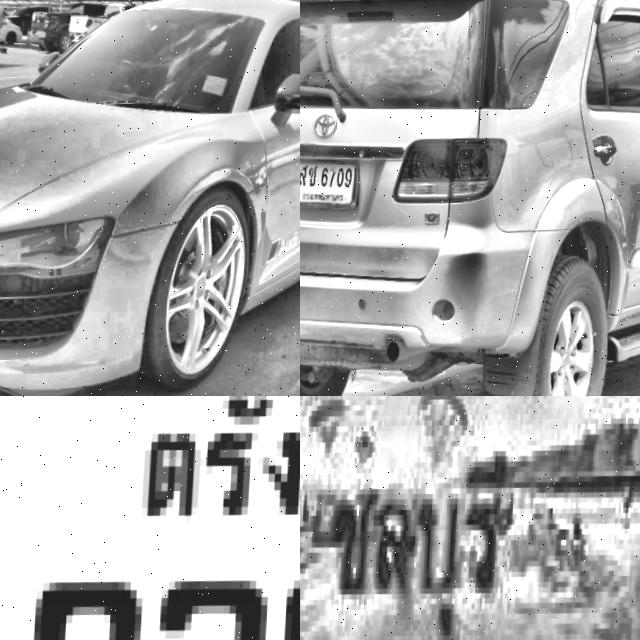license-plate: (300, 396, 640, 640), (0, 396, 300, 640), (300, 152, 361, 214)
